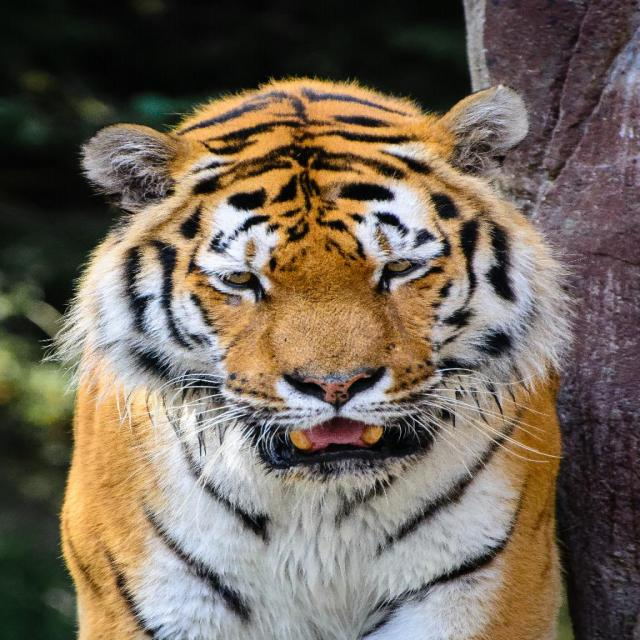Tiger: (38, 75, 584, 640)
